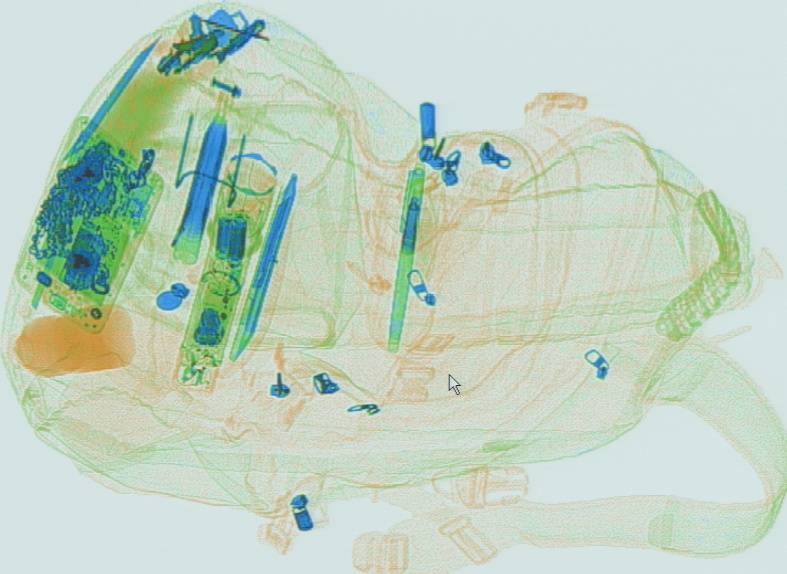knife: (223, 169, 296, 365), (58, 33, 163, 162)
